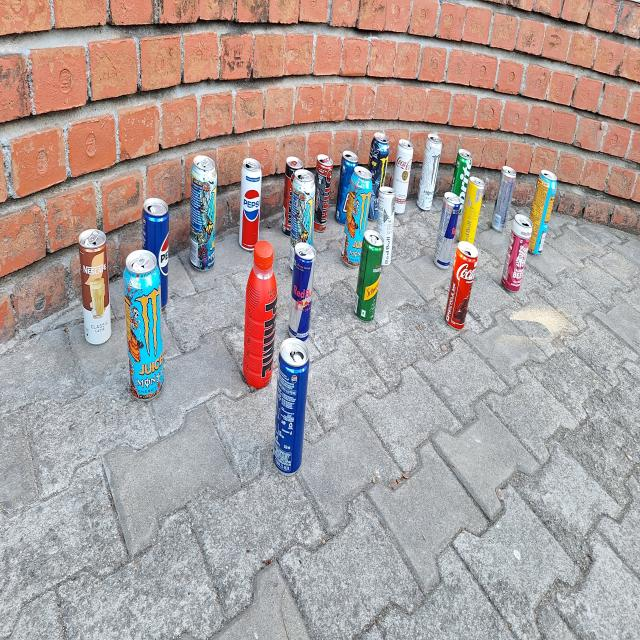Coca Cola - Marvel: (446, 247, 479, 327)
Coca Cola Plus: (394, 138, 414, 215)
Coolberg: (504, 222, 532, 290)
Hell Apple: (316, 152, 331, 230)
Hell Classic: (284, 160, 292, 240)
Monster Aussie Lemonade: (190, 156, 216, 269), (291, 173, 314, 242)
Monster LH44: (370, 134, 390, 185)
Monster Mango Loco: (123, 252, 164, 402), (346, 173, 372, 265), (529, 172, 557, 253), (403, 291, 403, 292)
Nescafe Classic Iced Latte: (76, 227, 115, 346)
Pepsi: (276, 341, 311, 476), (141, 200, 170, 262)
Pepsi Retro: (239, 156, 261, 251)
Prime - Shitass: (246, 248, 277, 396)
Redbul: (290, 246, 315, 339), (437, 189, 454, 275), (491, 166, 514, 229)
Redbull Summer Edition: (375, 187, 395, 239)
Redbull Yellow Edition: (353, 238, 385, 323), (462, 180, 486, 243)
Sprite: (455, 150, 470, 192)
Thums Up: (336, 152, 348, 224)
White Monster: (418, 138, 443, 209)
